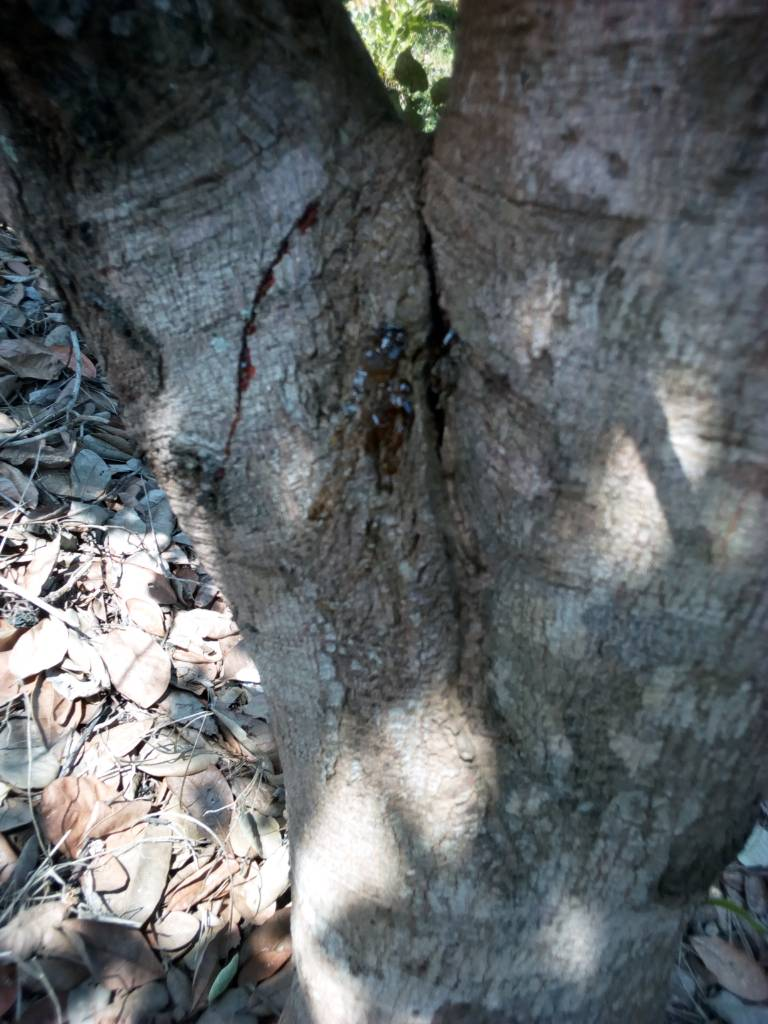Gommose: (349, 314, 463, 466)
